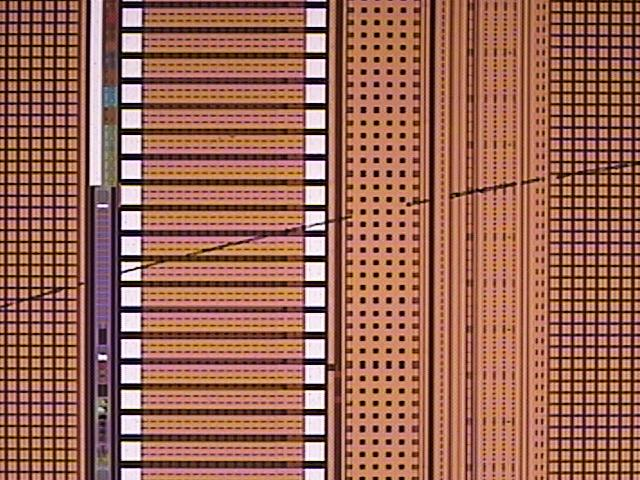SCRATCH: (1, 154, 640, 320)
